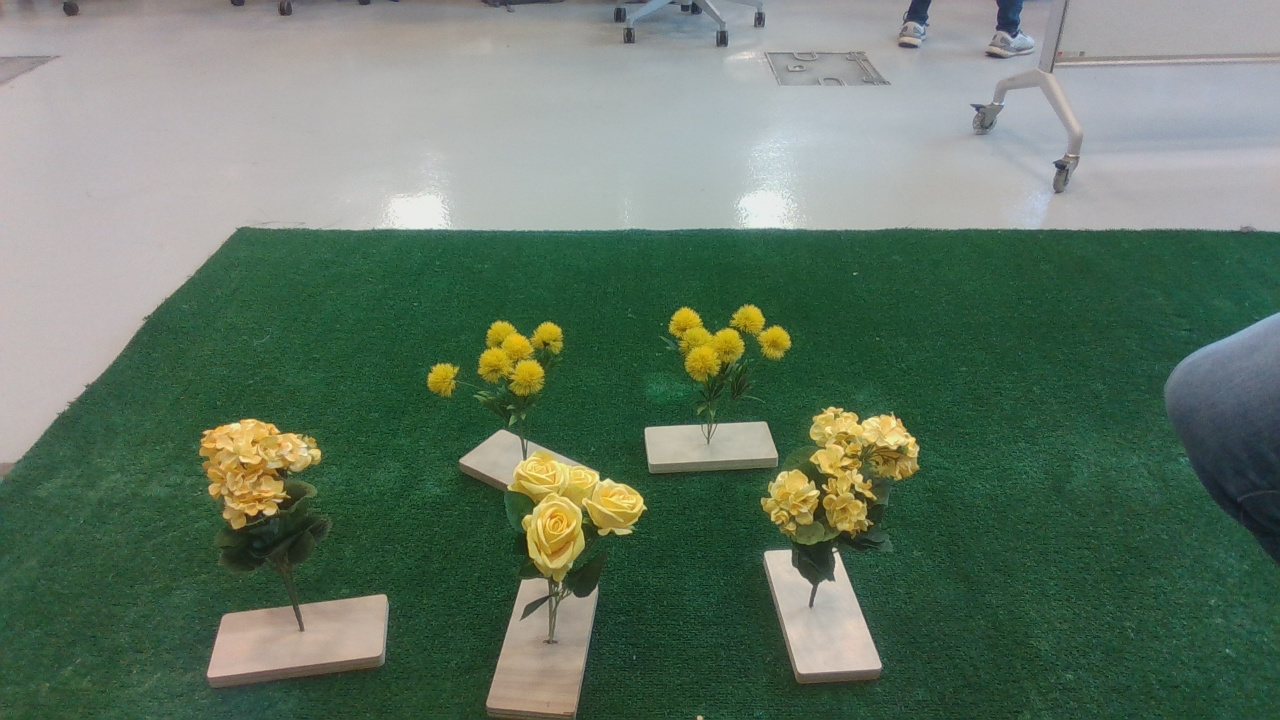dandelion: (638, 304, 809, 401), (419, 320, 582, 416)
geranium: (196, 417, 340, 586), (784, 408, 932, 553)
rose: (506, 458, 658, 593)
